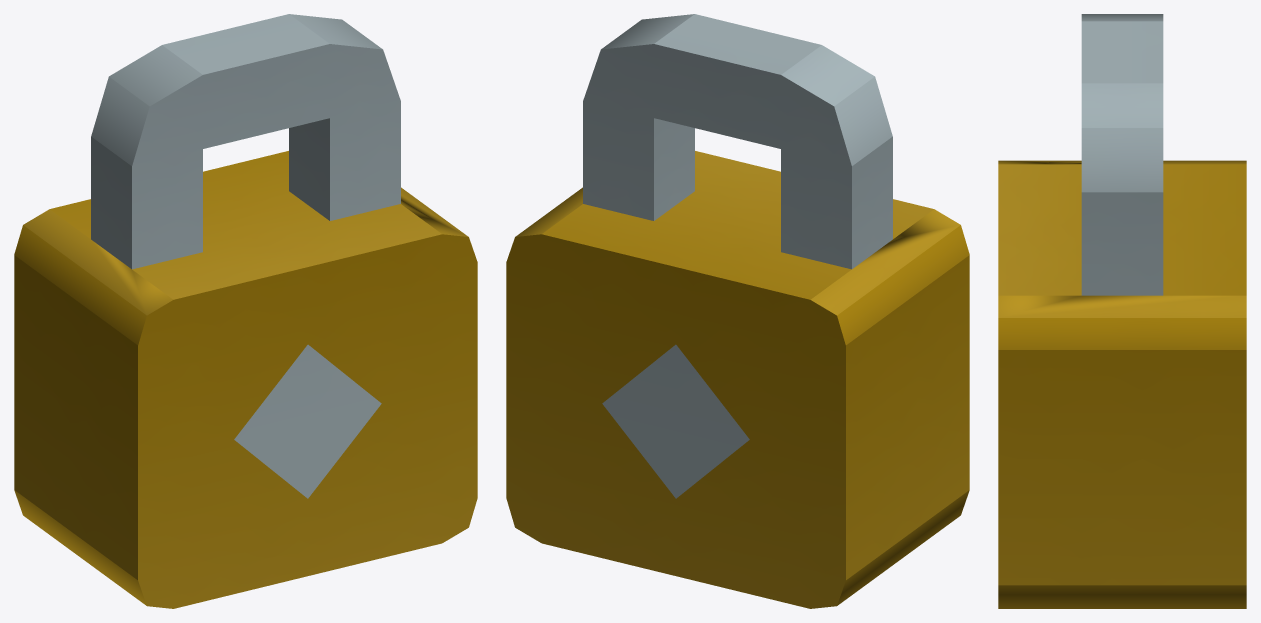
The model's file is lock.glb.
3 views of the same model, side by side, from view 1: azimuth 30°, elevation 25°; view 2: azimuth 150°, elevation 25°; view 3: azimuth 270°, elevation 25° (orthographic).
Visible parts, largest first — view 1: lock; view 2: lock; view 3: lock.
Part boxes in pixels (box(x1,y1,x2,y2)): lock: box(14, 14, 477, 608); lock: box(506, 14, 969, 608); lock: box(998, 14, 1246, 608).
Size of the model in its own units: 0.2932 by 0.4012 by 0.1853.
1 material, 1 textured.
